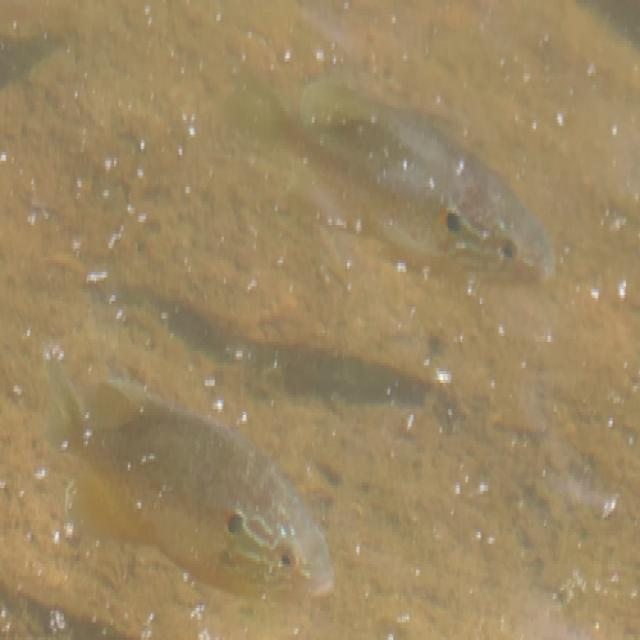Gunes Levregi: (38, 342, 338, 615)
